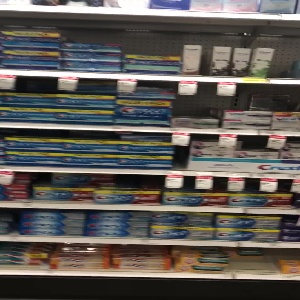void: (270, 27, 300, 78), (226, 249, 278, 274)
